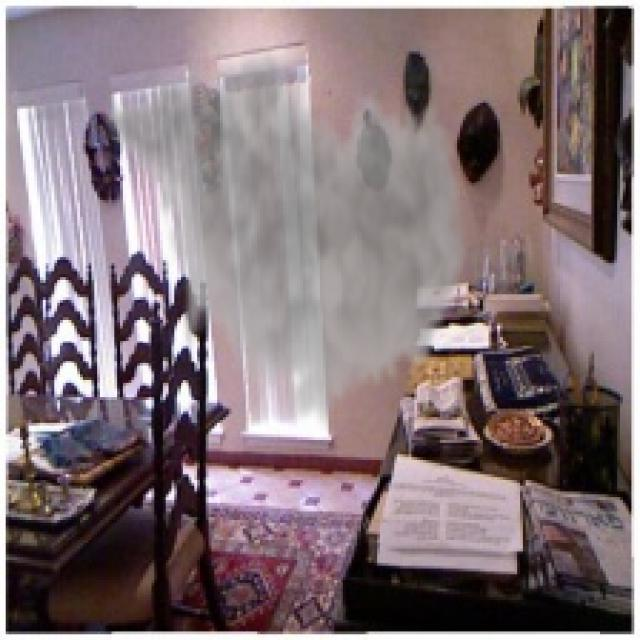Smoke: (100, 37, 472, 437)
